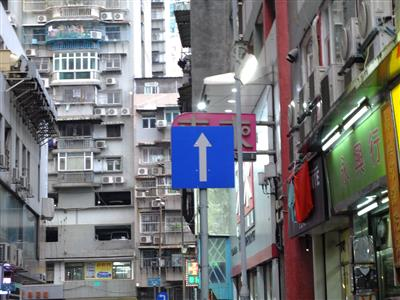oneway: (166, 121, 236, 191)
